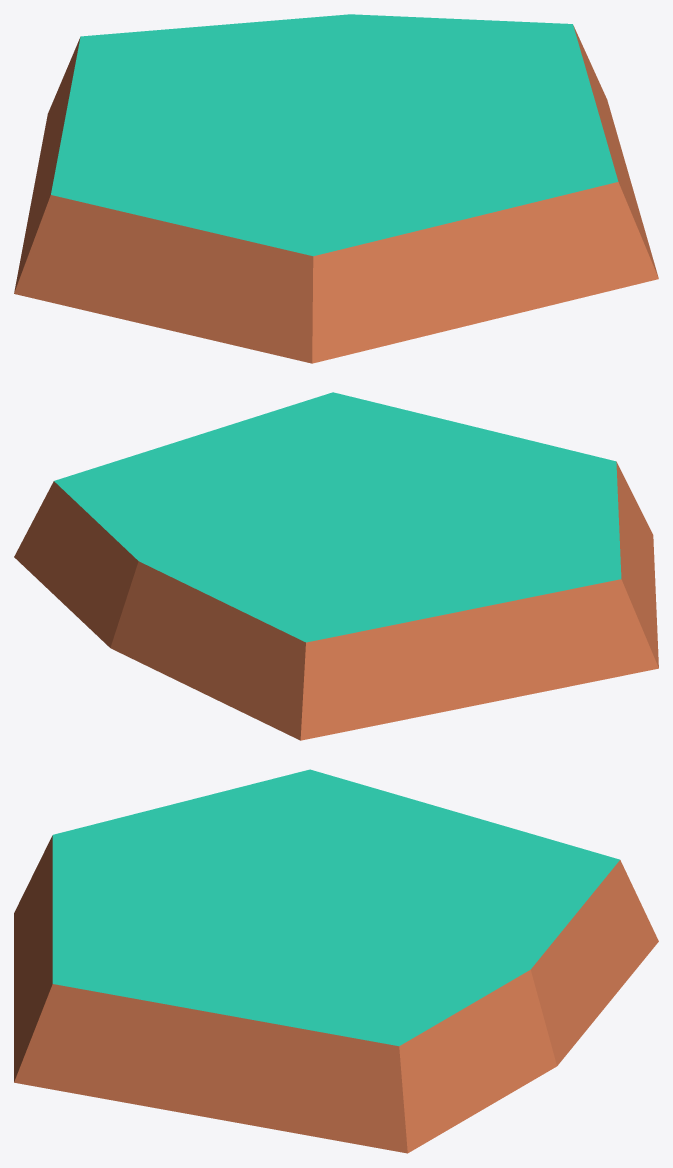
File: rock_smallFlatA.dae
3 renders of one model, top to bottom at view 1: azimuth 30°, elevation 25°; view 2: azimuth 150°, elevation 25°; view 3: azimuth 270°, elevation 25°, orthographic. The views are drawn at different scales.
Parts seen in each view (by area): view 1: rock_smallFlatA; view 2: rock_smallFlatA; view 3: rock_smallFlatA.
Part boxes in pixels (x1,y1,x2,y2): rock_smallFlatA: (14,14,658,363); rock_smallFlatA: (14,392,658,740); rock_smallFlatA: (14,769,658,1153).
Bounding box in the file's own units: 0.4958 × 0.0649 × 0.4296.
